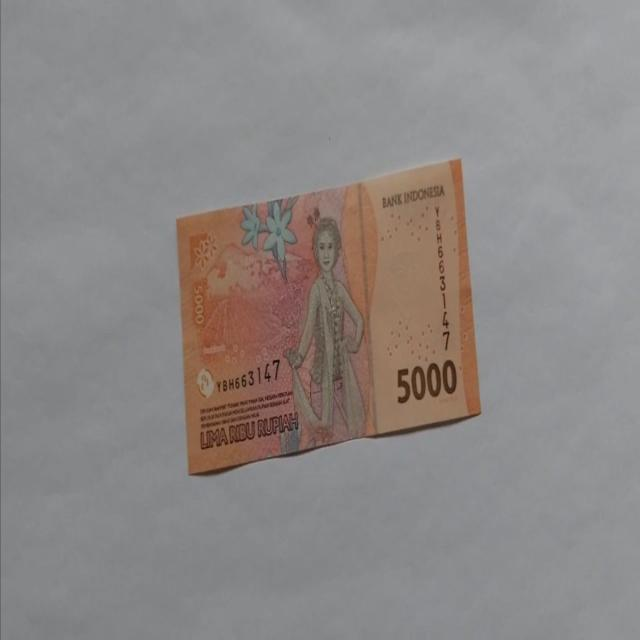lima ribu rupiah: (176, 156, 482, 474), (282, 216, 367, 451)
